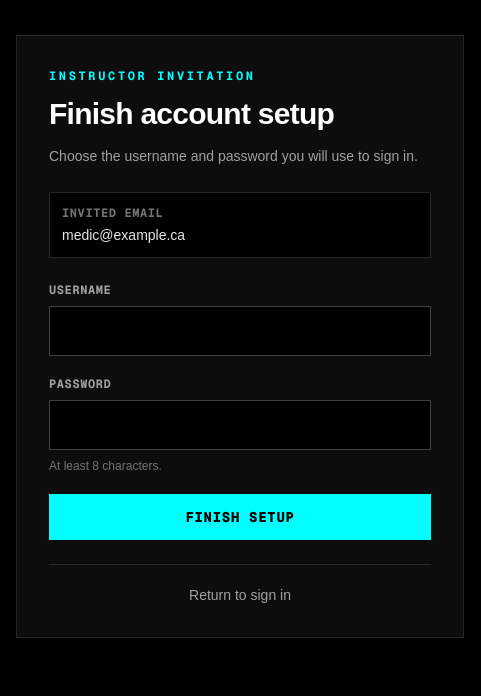
Test: AcceptInvitePage › shows the required duplicate-username message and allows retry
This screenshot has width=481, height=696.
In the field labelled "Username": {"x": 240, "y": 330} [49,306,431,356], type "Existing"
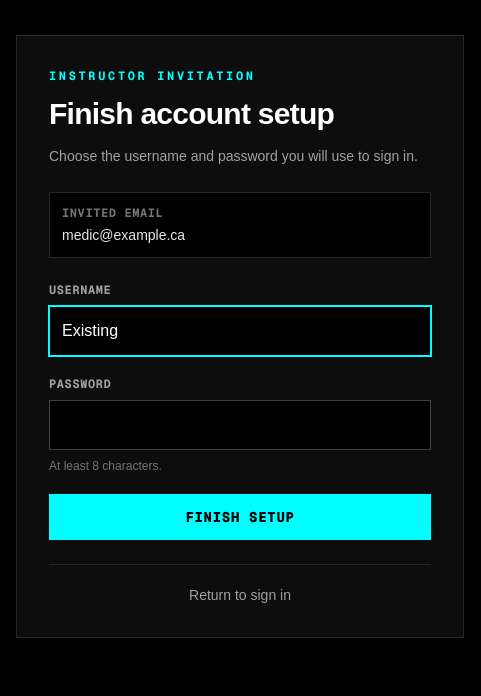
In the password field labelled "Password At least 8 characters.": {"x": 240, "y": 424} [49,400,431,450], type "password"
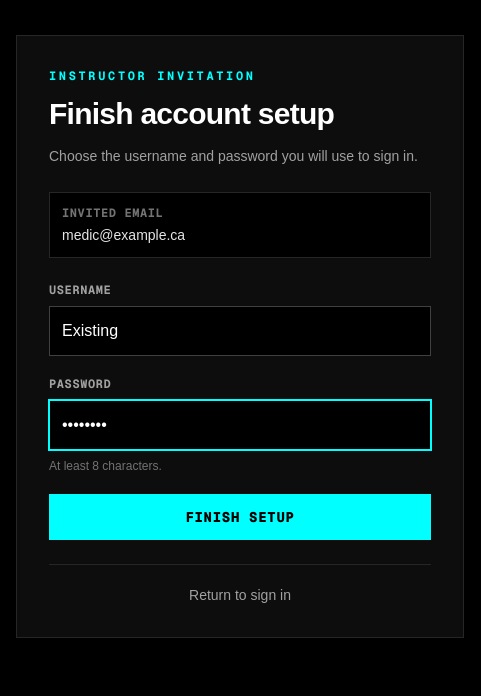
Click the button "Finish setup": {"x": 240, "y": 516} [49,494,431,540]
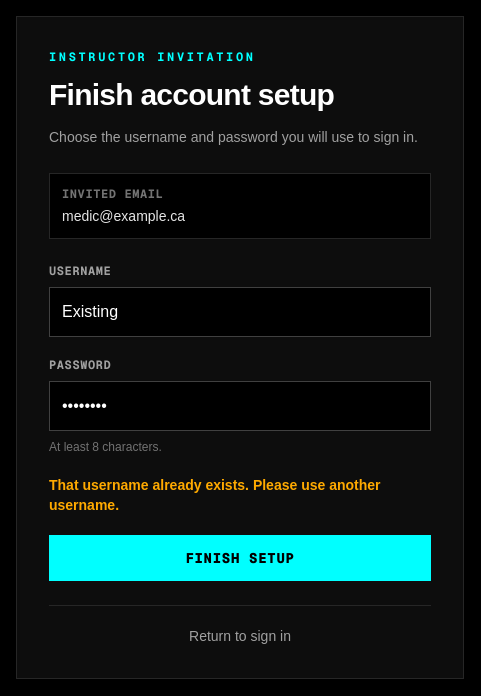
Check: the button "Finish setup" is enabled, box [49,535,431,581]
Check: the message shows "already exists", box [49,477,380,513]
